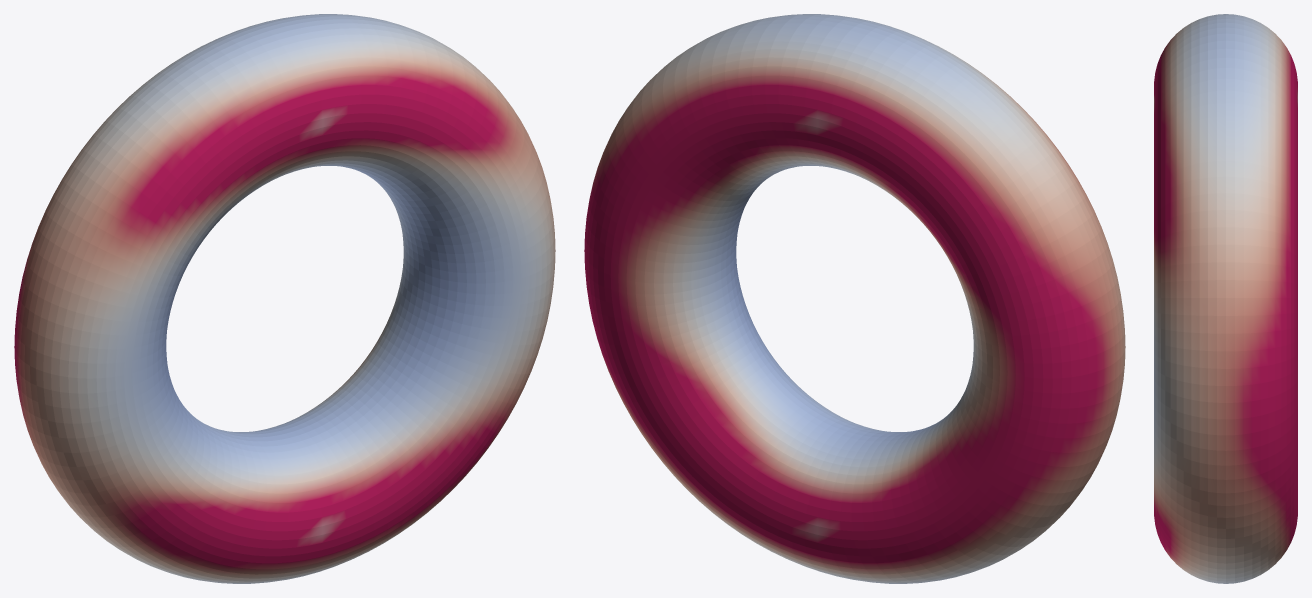
3 views of the same model, side by side, from view 1: azimuth 30°, elevation 25°; view 2: azimuth 150°, elevation 25°; view 3: azimuth 270°, elevation 25° (orthographic). The views are drawn at different scales.
Visible parts, largest first — view 1: world; view 2: world; view 3: world.
Boxes of the visible parts, x1,y1,x2,y2 form: world: (14,14,555,583); world: (584,14,1125,583); world: (1154,14,1297,583).
Size of the model in its own units: 25.87 by 25.87 by 6.52.
